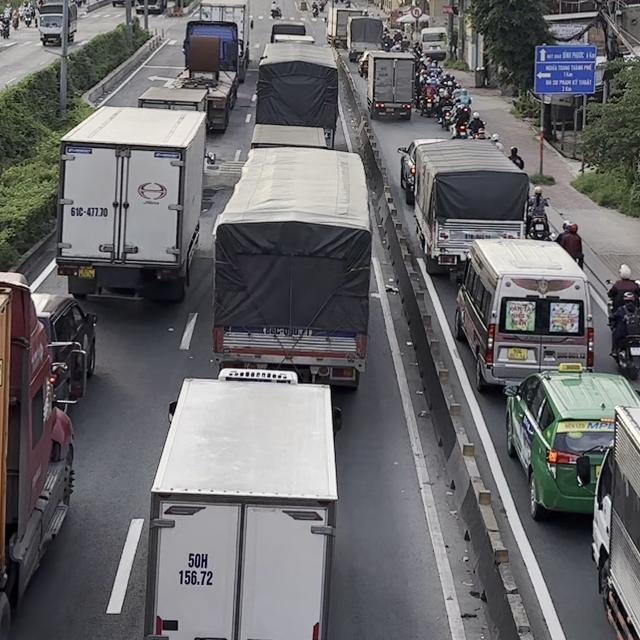car: (453, 237, 596, 393), (503, 362, 639, 520), (29, 292, 97, 410)
motorcycle: (607, 303, 640, 380), (526, 197, 551, 240), (422, 96, 435, 119), (441, 109, 453, 132), (457, 123, 467, 138)
truck: (141, 368, 339, 639), (209, 147, 372, 388), (0, 270, 88, 639), (55, 104, 216, 303), (413, 138, 530, 275), (576, 404, 639, 639), (255, 42, 339, 149), (168, 19, 245, 134), (367, 52, 416, 121), (252, 122, 328, 148), (346, 15, 384, 62), (324, 6, 364, 47)
